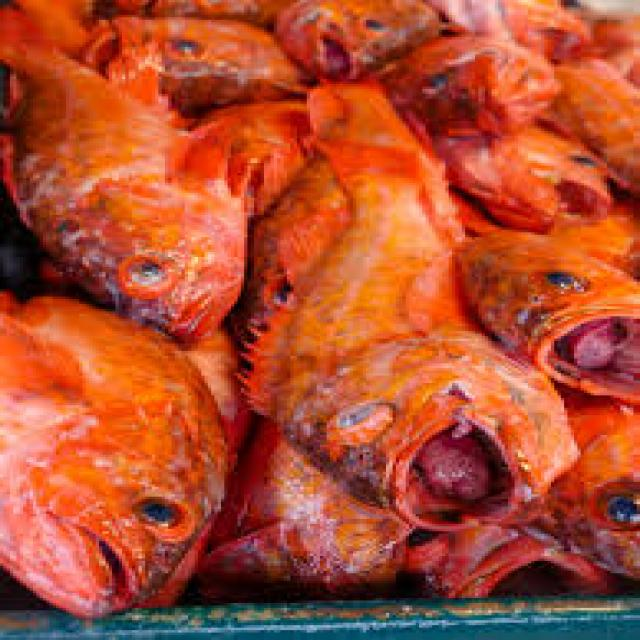northern-red-snapper: (255, 70, 585, 534), (0, 2, 278, 333), (0, 284, 211, 628), (200, 426, 442, 621), (441, 217, 640, 404), (495, 0, 640, 241), (122, 0, 294, 114), (448, 118, 614, 231), (567, 403, 640, 596), (396, 42, 556, 130), (262, 0, 434, 76)
